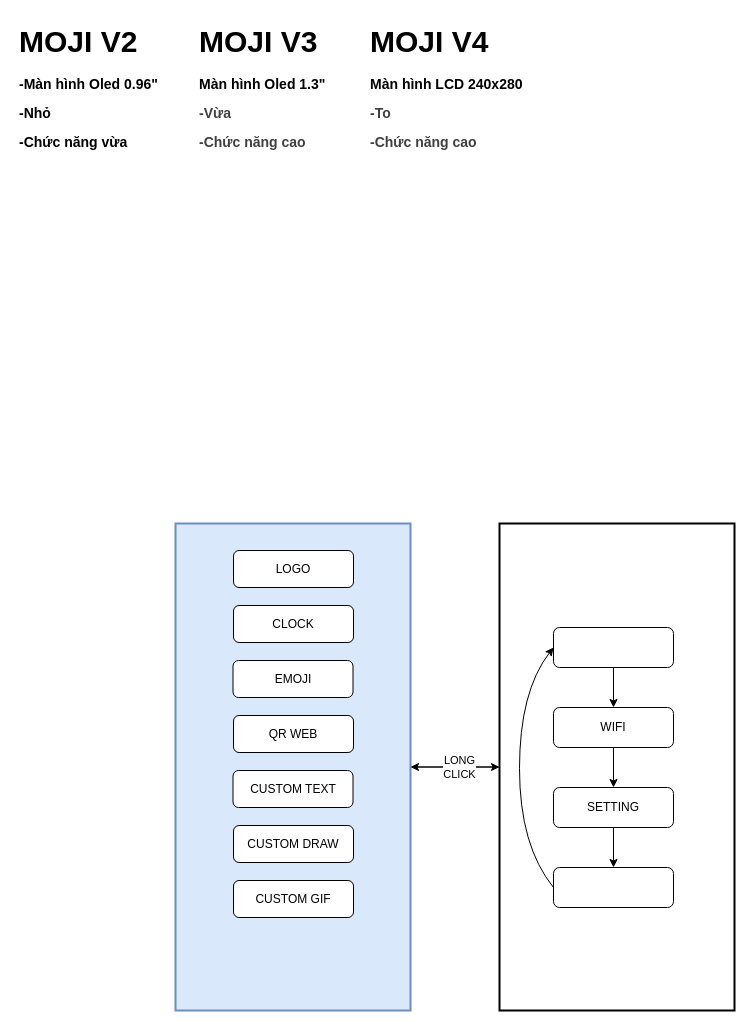
This 752x1028 diagram has some shape labels left out. The shapes that lost their labels are listed below. From the top down, each one's box as (x1, y1, x2, y2) in pixels, then its label:
(552, 626, 674, 668): MODE
(552, 866, 674, 908): INFO
